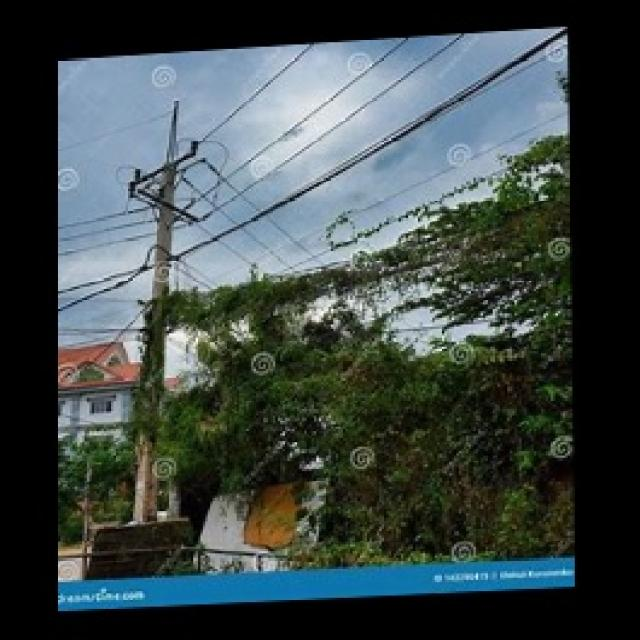critical vegetation: (137, 268, 556, 529)
